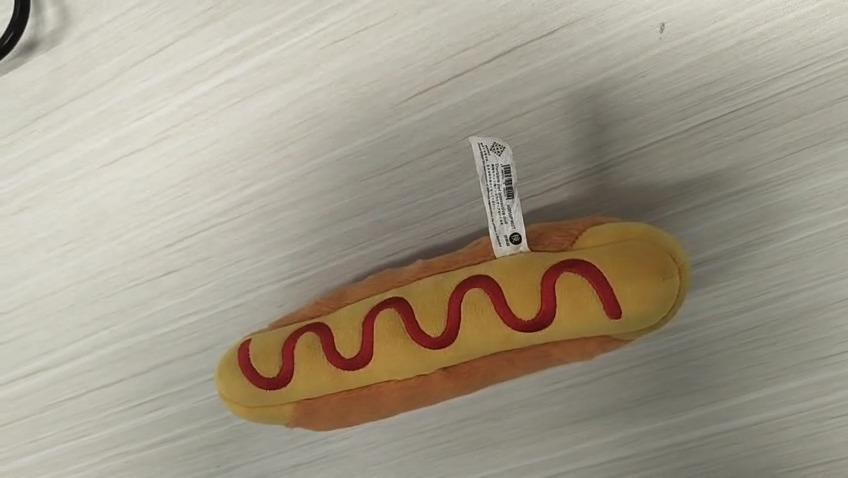hotdog: (214, 213, 691, 431)
